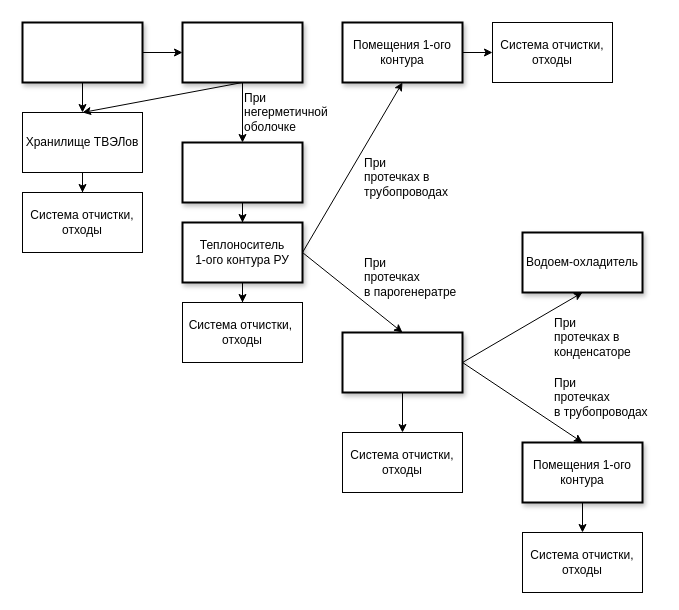
The diagram is 679 pixels wide and 610 high, and some of its shapes have lost their labels. Here are the shapes that lost their labels. From the top down, the centre of each, then its label:
pixel 83 53: Топливная таблетка
pixel 243 53: Газова полость ТВЭЛов
pixel 243 173: Теплоноситель активной зоны
pixel 403 363: Теплоноситель 2-ого контура РУ
